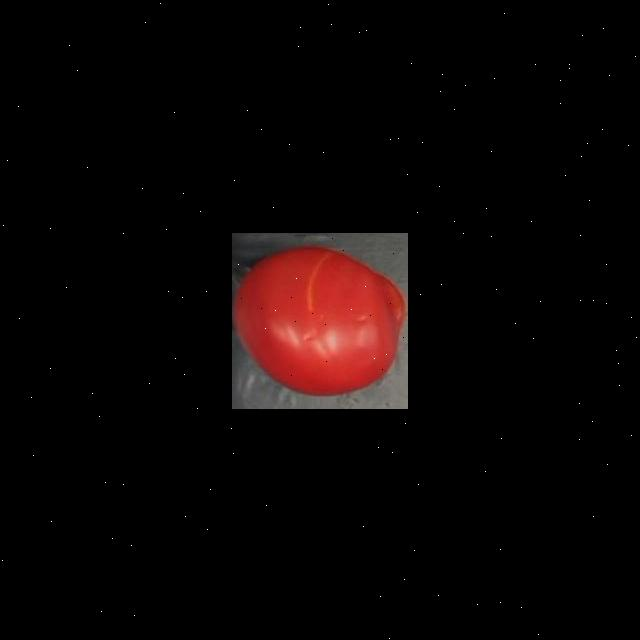tomato: (232, 242, 408, 397)
